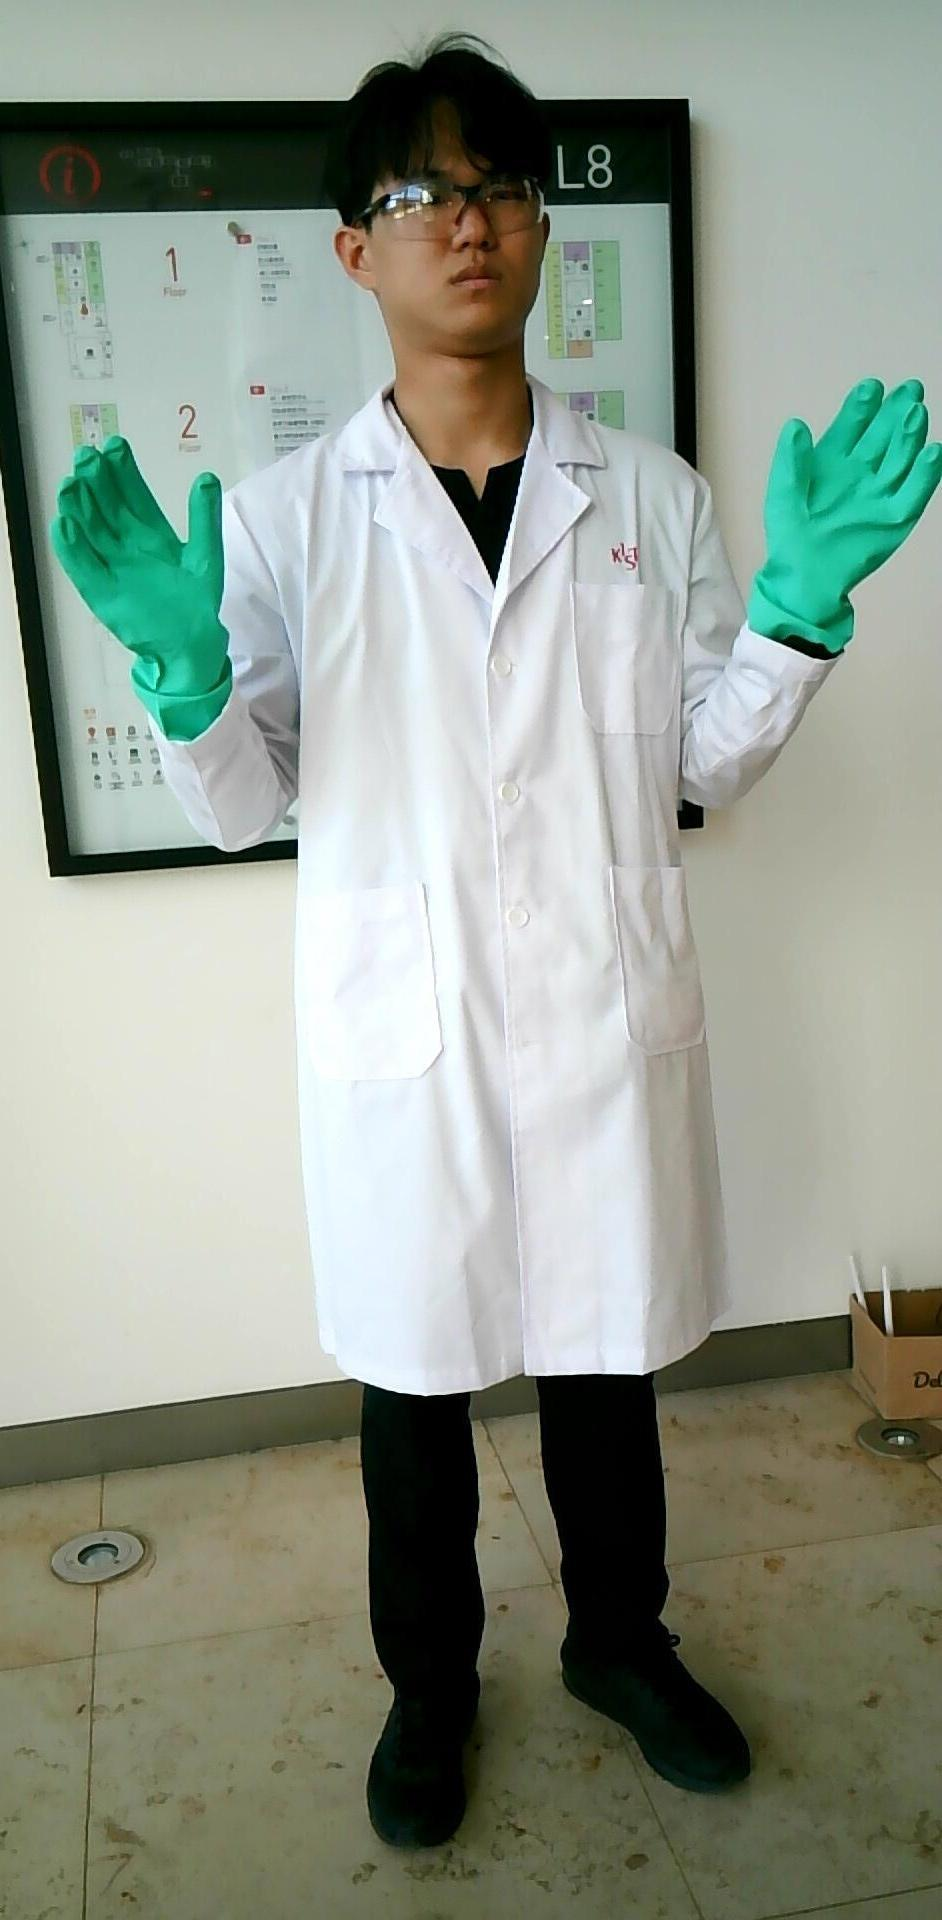lab_coat: (311, 474, 710, 1376)
